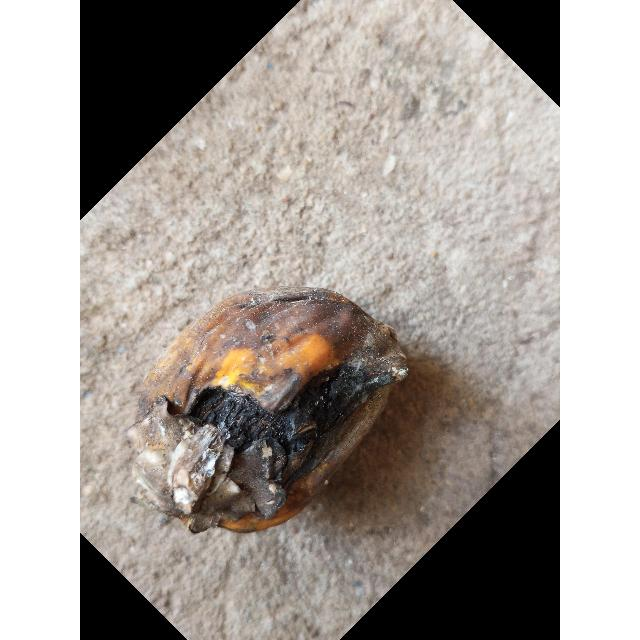damaged: (130, 289, 409, 537)
